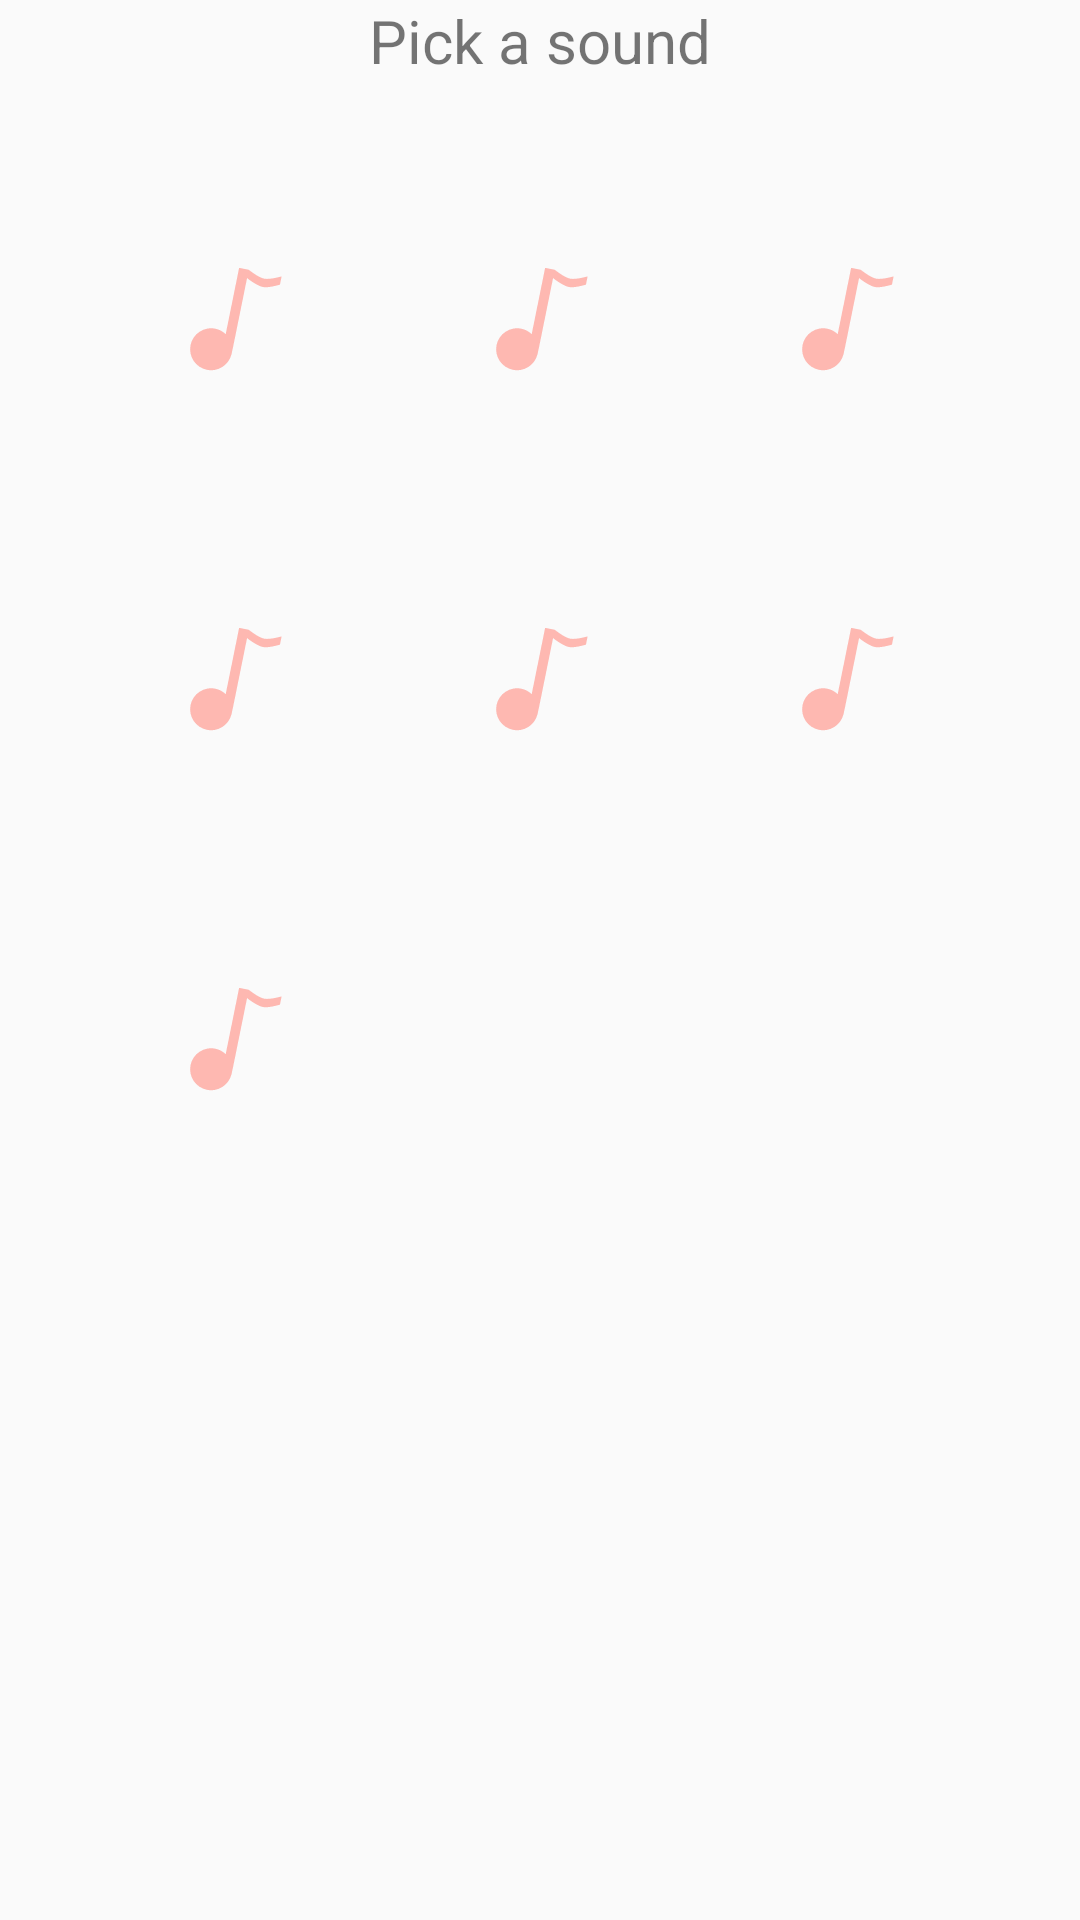

Icon bounding boxes for this 1080x1920 phone screenshot, format bbox=(x1, y1, x2, y2):
musical note: bbox=(190, 268, 282, 370), bbox=(496, 268, 588, 370), bbox=(802, 268, 894, 370), bbox=(190, 628, 282, 730), bbox=(496, 628, 588, 730), bbox=(802, 628, 894, 730), bbox=(190, 988, 282, 1090)
